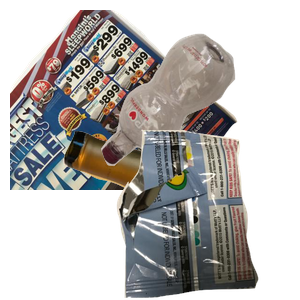glass: (60, 128, 300, 300)
paper: (10, 10, 240, 190)
plastic: (99, 31, 300, 189)
trash: (114, 130, 300, 300)
